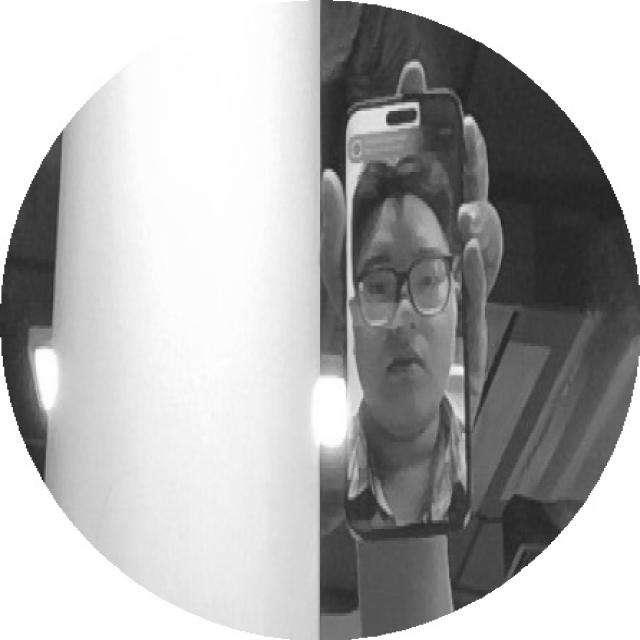fake: (329, 83, 493, 543), (320, 93, 476, 548)
